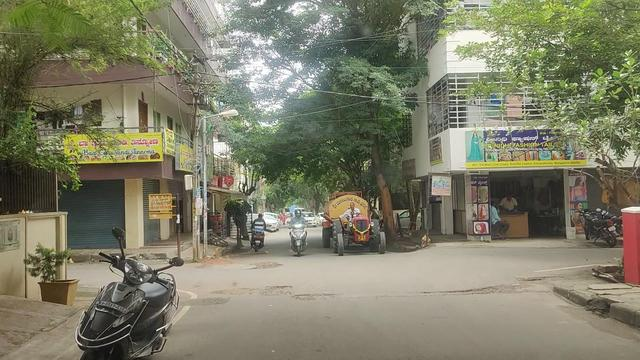HMV: (318, 191, 383, 257)
LMV: (99, 249, 169, 360), (290, 209, 308, 257), (252, 212, 270, 251)
RoadDamages: (415, 274, 515, 304), (222, 281, 297, 302), (245, 260, 284, 278), (298, 286, 337, 302)
